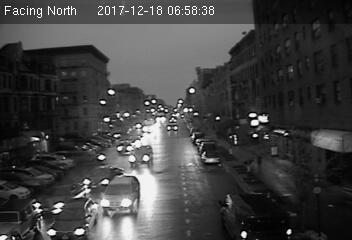car: (48, 200, 97, 240), (101, 175, 140, 213), (81, 165, 123, 191), (128, 145, 152, 165), (201, 149, 222, 166)
truck: (220, 191, 296, 240)
